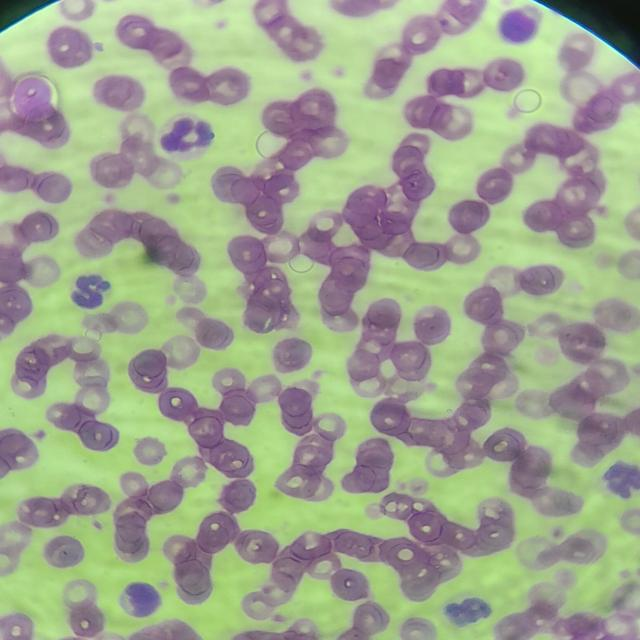Neutrofilo: (161, 113, 217, 163), (440, 589, 498, 631), (599, 458, 640, 503), (72, 273, 116, 310)
